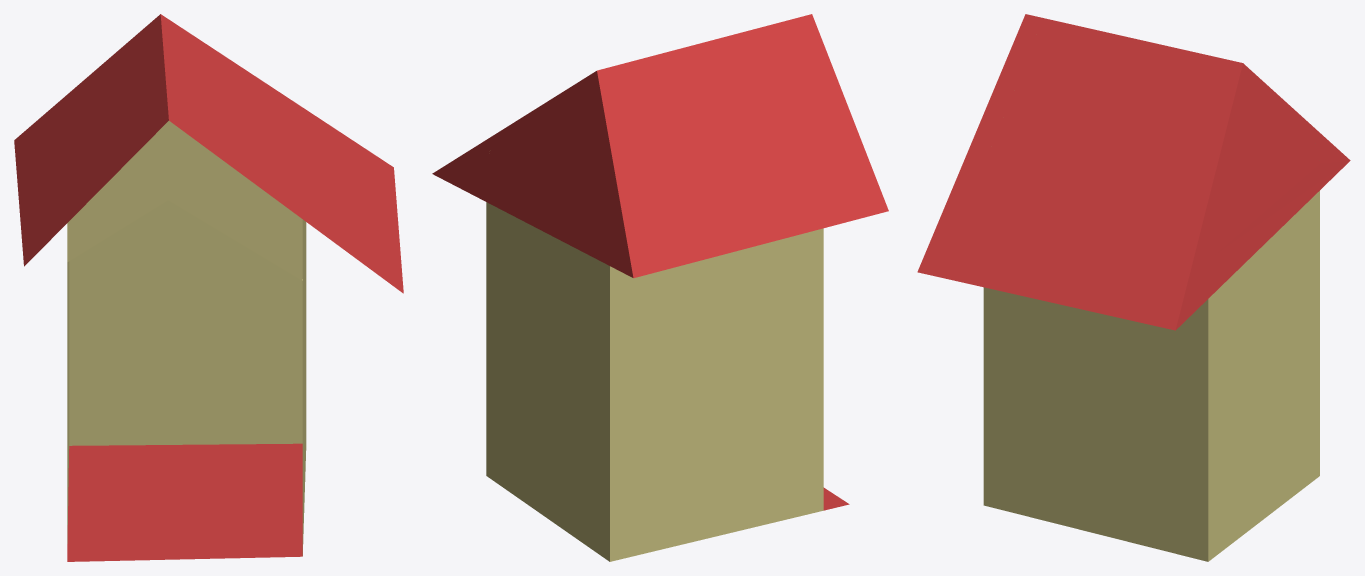
The picture shows the model from 3 angles, left to right: view 1: azimuth 30°, elevation 25°; view 2: azimuth 150°, elevation 25°; view 3: azimuth 270°, elevation 25°; orthographic projection. The views are drawn at different scales.
Size of the model in its own units: 10.2 by 9.49 by 10.58.
